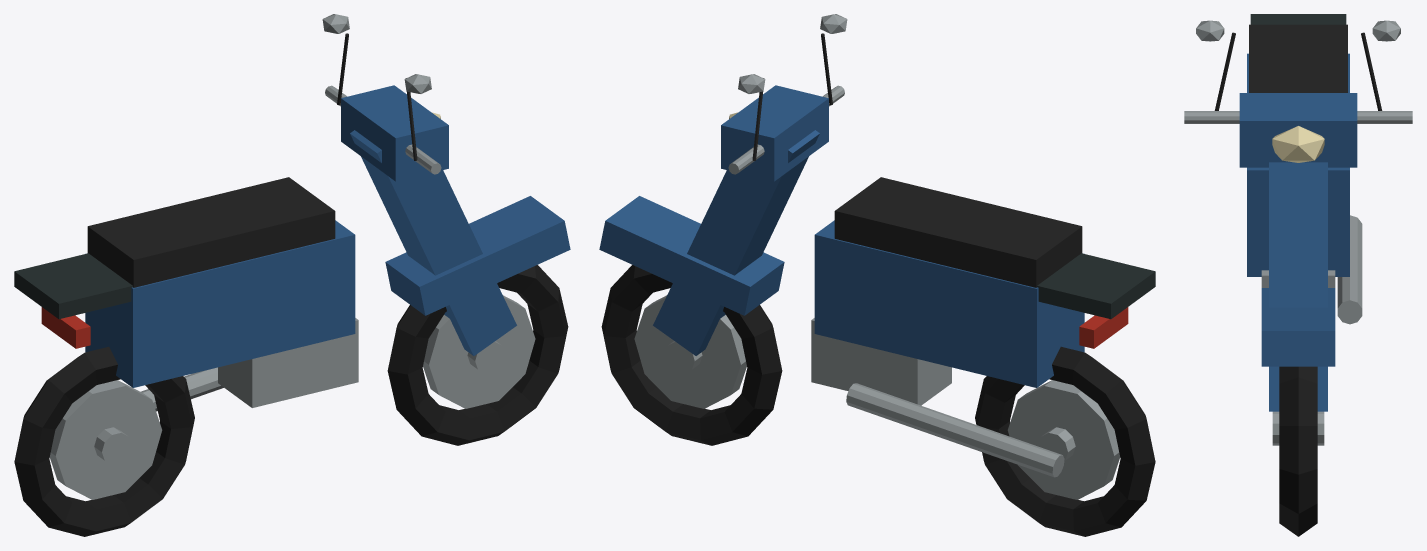
Rendered from xe_may_xanh.glb.
3 renders of one model, left to right at view 1: azimuth 30°, elevation 25°; view 2: azimuth 150°, elevation 25°; view 3: azimuth 270°, elevation 25°, orthographic. The views are drawn at different scales.
Visible parts, largest first — view 1: xe_may_xanh; view 2: xe_may_xanh; view 3: xe_may_xanh.
Part boxes in pixels (x1=…): xe_may_xanh: x1=14, y1=14, x2=570, y2=536; xe_may_xanh: x1=599, y1=14, x2=1155, y2=536; xe_may_xanh: x1=1184, y1=14, x2=1412, y2=536.
Size of the model in its own units: 1.87 by 1.36 by 0.62.
